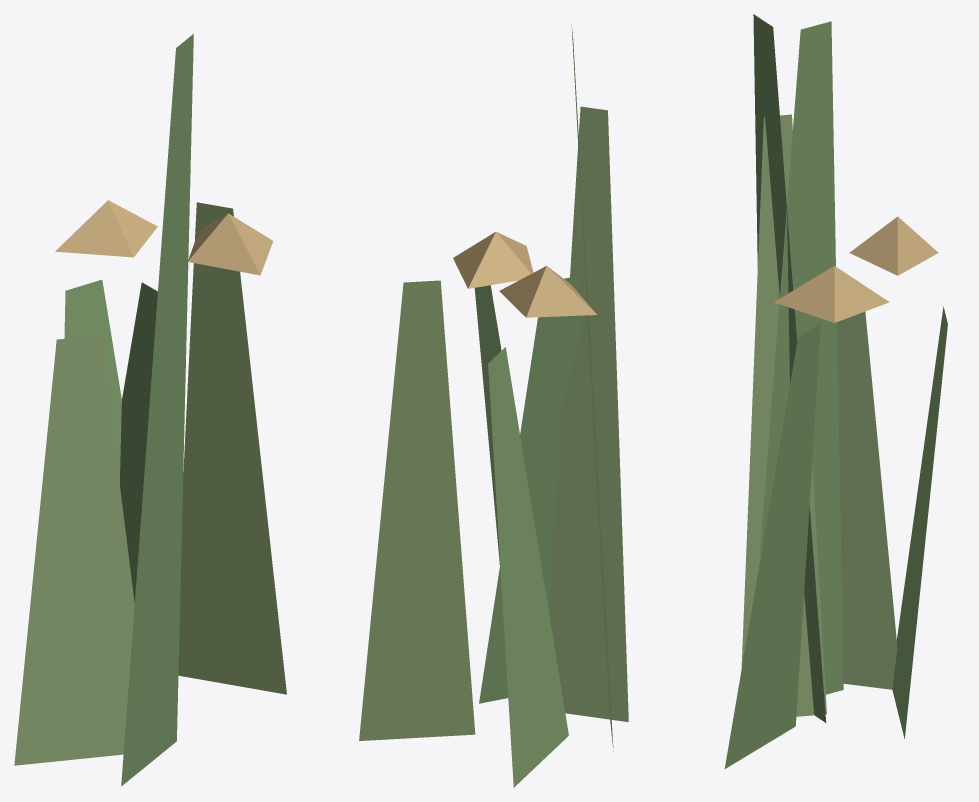
Rendered from crop.temp.wheat__spring.glb.
The picture shows the model from 3 angles, left to right: view 1: azimuth 30°, elevation 25°; view 2: azimuth 150°, elevation 25°; view 3: azimuth 270°, elevation 25°; orthographic projection. The views are drawn at different scales.
Parts seen in each view (by area): view 1: crop.temp.wheat__spring; view 2: crop.temp.wheat__spring; view 3: crop.temp.wheat__spring.
Part boxes in pixels (x1,y1,x2,y2): crop.temp.wheat__spring: (14,34,286,786); crop.temp.wheat__spring: (359,26,628,787); crop.temp.wheat__spring: (724,14,947,768).
Size of the model in its own units: 0.4129 by 1 by 0.3362.
